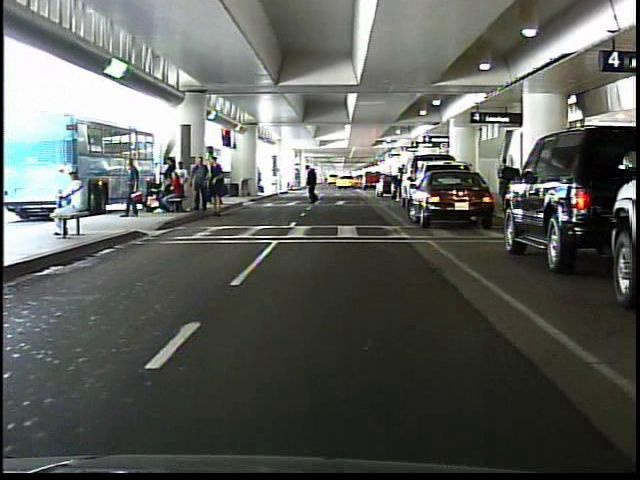person: (45, 164, 91, 240), (117, 151, 146, 221), (302, 162, 326, 208)
